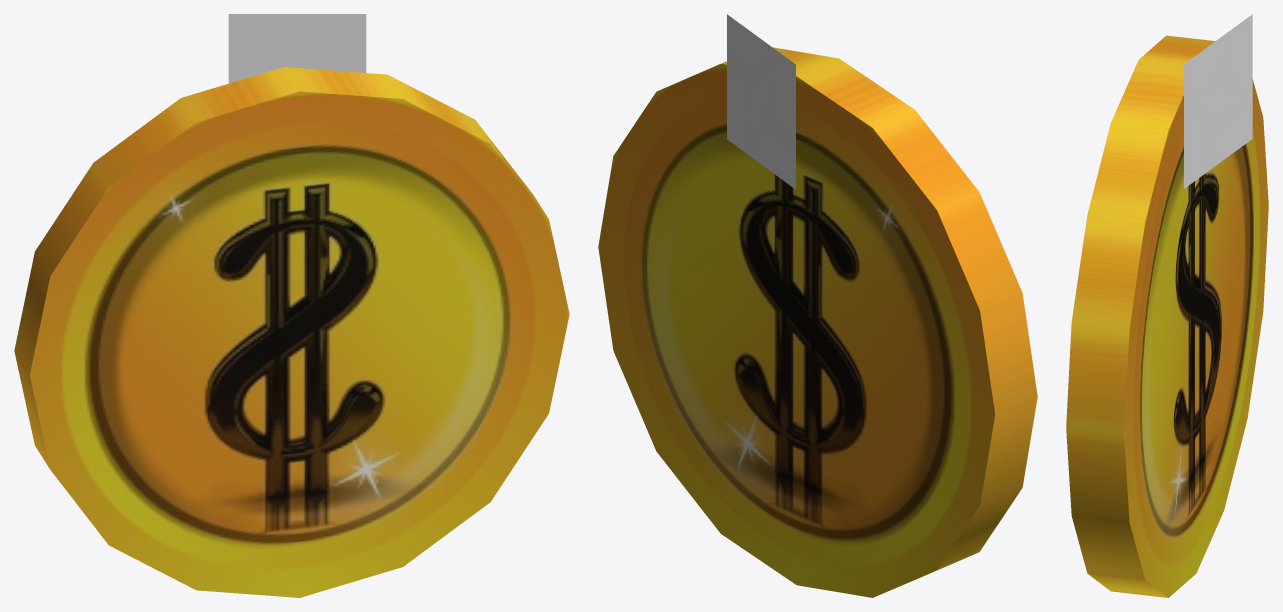
File: Coin.fbx
3 renders of one model, left to right at view 1: azimuth 30°, elevation 25°; view 2: azimuth 150°, elevation 25°; view 3: azimuth 270°, elevation 25°, orthographic.
Visible parts, largest first — view 1: pCylinder1, pPlane1; view 2: pCylinder1, pPlane1; view 3: pCylinder1, pPlane1.
Boxes of the visible parts, bbox=[...] form: pCylinder1: bbox=[14, 67, 569, 597]; pPlane1: bbox=[228, 14, 366, 83]; pCylinder1: bbox=[598, 47, 1037, 597]; pPlane1: bbox=[727, 14, 795, 189]; pCylinder1: bbox=[1066, 35, 1268, 597]; pPlane1: bbox=[1184, 14, 1252, 188].
Size of the model in its own units: 1.99 by 2.15 by 0.7245.
